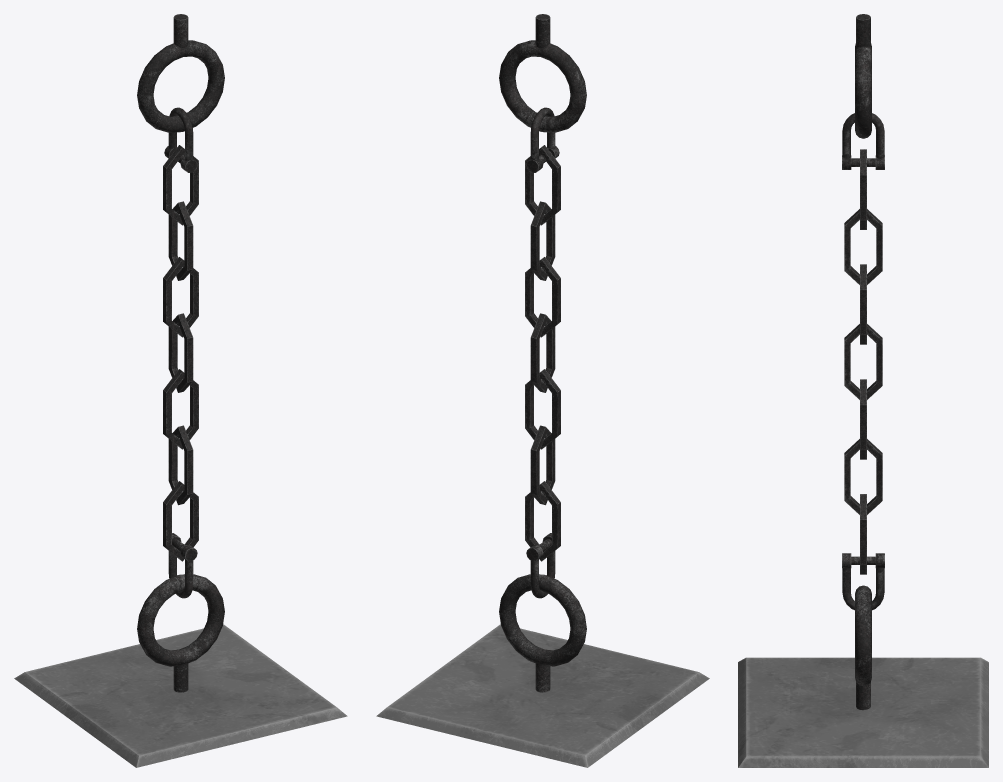
Rendered from chain_03.fbx.
3 views of the same model, side by side, from view 1: azimuth 30°, elevation 25°; view 2: azimuth 150°, elevation 25°; view 3: azimuth 270°, elevation 25° (orthographic). The views are drawn at different scales.
Parts seen in each view (by area): view 1: chain_03; view 2: chain_03; view 3: chain_03.
Boxes of the visible parts, <box> form: chain_03: <box>14,14,347,767</box>; chain_03: <box>376,14,709,767</box>; chain_03: <box>738,14,988,767</box>.
Size of the model in its own units: 80.36 by 247 by 80.36.
